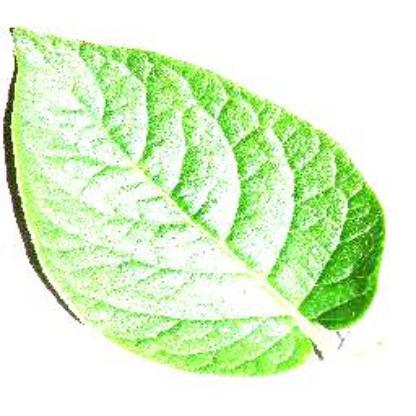Healthy-plant: (7, 21, 389, 381)
